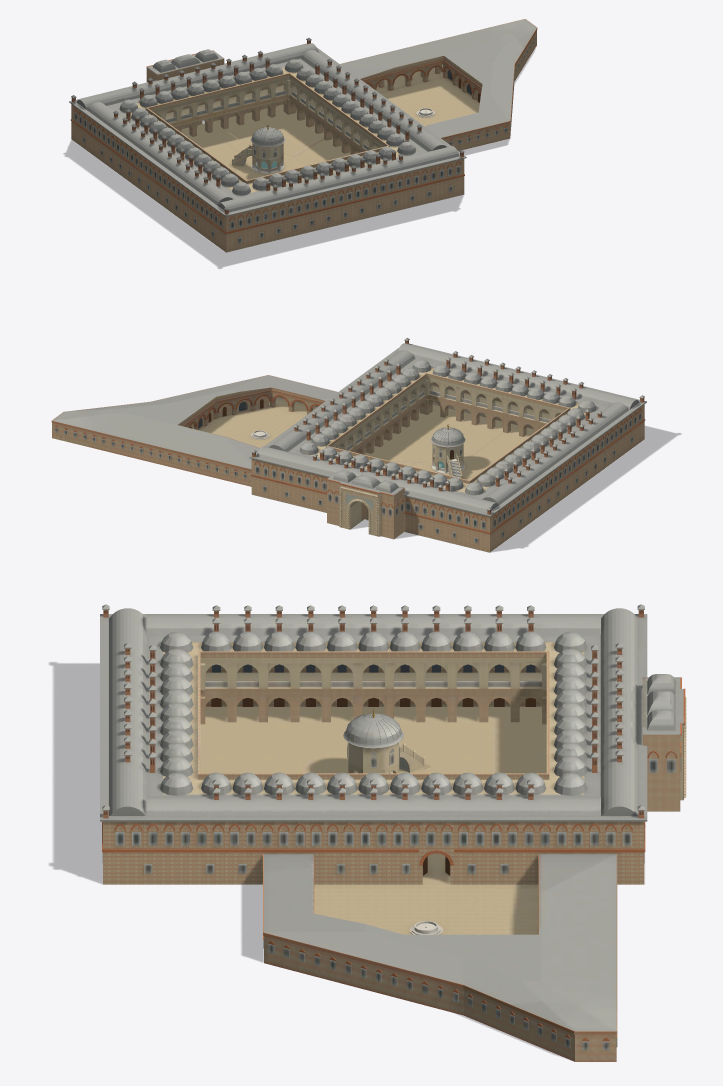
File: koza-han_v18_harita_pisik.glb
3 renders of one model, top to bottom at view 1: azimuth 30°, elevation 25°; view 2: azimuth 150°, elevation 25°; view 3: azimuth 270°, elevation 25°, orthographic. The views are drawn at different scales.
Parts seen in each view (by area): view 1: Cati, Govde_Dis, Ic_Koza, Avlu_Zemin, Revak_Kubbeleri, Avlu_Revak, Harita_Golge, Cephe, Mescit, Portal; view 2: Cati, Ic_Koza, Govde_Dis, Avlu_Zemin, Revak_Kubbeleri, Avlu_Revak, Cephe, Portal, Harita_Golge, Mescit; view 3: Cati, Ic_Koza, Govde_Dis, Avlu_Zemin, Avlu_Revak, Revak_Kubbeleri, Harita_Golge, Cephe, Portal, Mescit.
Boxes of the visible parts, x1,y1,x2,y2 form: Cati: (69,38,466,216); Govde_Dis: (71,58,464,252); Ic_Koza: (340,19,537,150); Avlu_Zemin: (181,64,479,180); Revak_Kubbeleri: (119,59,416,195); Avlu_Revak: (119,67,416,195); Harita_Golge: (64,48,535,268); Cephe: (70,78,464,243); Mescit: (232,124,285,173); Portal: (146,49,224,82); Cati: (249,338,646,516); Ic_Koza: (51,375,337,486); Govde_Dis: (251,359,644,552); Avlu_Zemin: (199,397,534,480); Revak_Kubbeleri: (299,359,596,495); Avlu_Revak: (299,367,596,495); Cephe: (251,408,645,543); Portal: (326,470,404,539); Harita_Golge: (351,426,680,551); Mescit: (431,424,465,478); Cati: (100,604,647,821); Ic_Koza: (263,854,617,1061); Govde_Dis: (103,635,644,884); Avlu_Zemin: (200,706,546,934); Avlu_Revak: (163,642,584,794); Revak_Kubbeleri: (160,631,587,795); Harita_Golge: (49,662,561,1056); Cephe: (102,742,681,873); Portal: (642,674,686,811); Mescit: (343,708,424,773).
Bounding box in the file's own units: 133 × 13.15 × 92.45.
2 materials, 2 textured.
